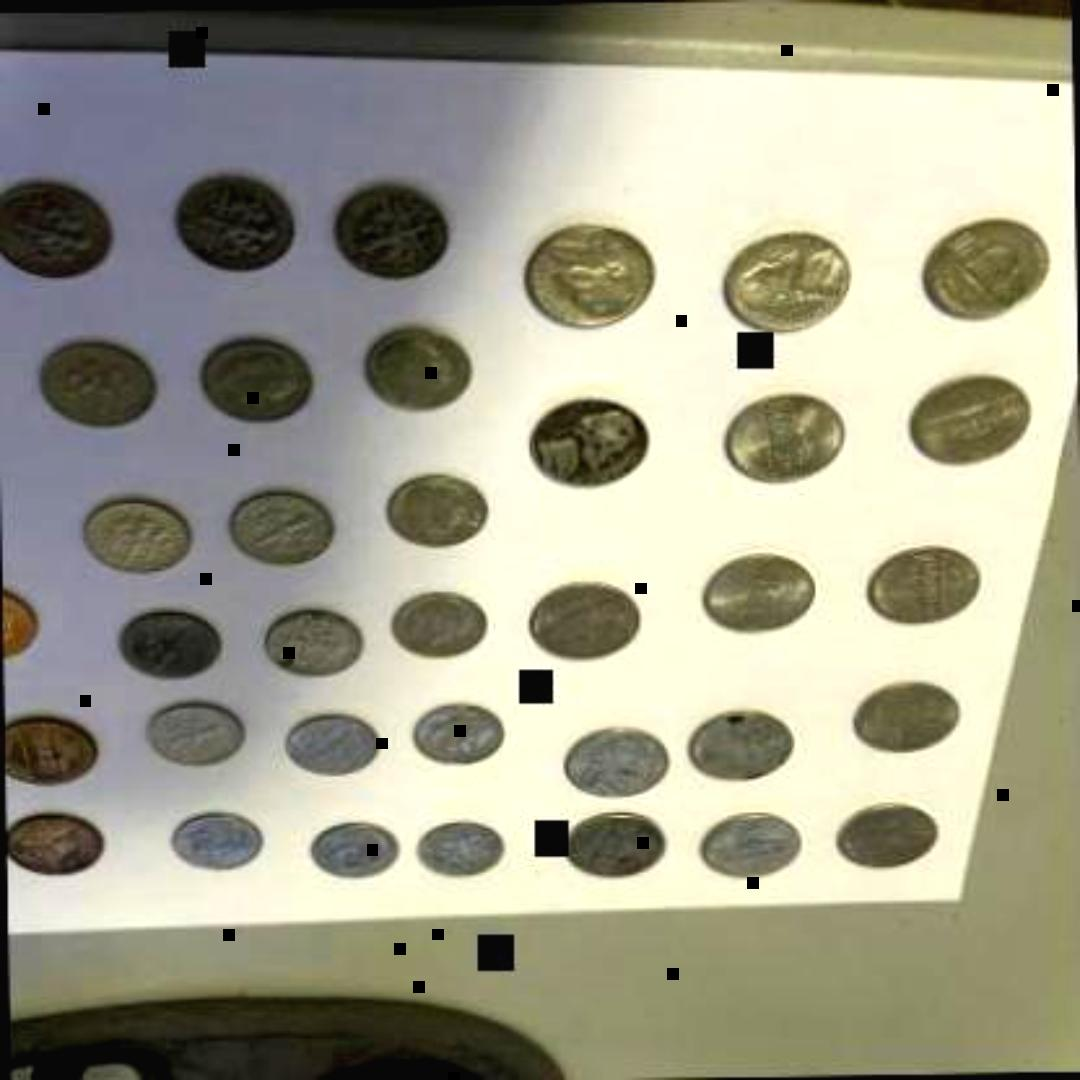Dime: (172, 168, 304, 278), (330, 176, 456, 276), (72, 489, 204, 579), (0, 172, 116, 274), (358, 317, 480, 413), (34, 335, 160, 425), (203, 328, 325, 418), (231, 476, 342, 562), (379, 468, 495, 548), (258, 602, 368, 676), (146, 691, 248, 769), (390, 582, 492, 658), (119, 604, 222, 678), (408, 690, 506, 764), (280, 705, 390, 769), (172, 801, 270, 865), (308, 813, 400, 877), (414, 816, 512, 874)
Nickel: (513, 213, 655, 329), (714, 227, 860, 338), (913, 215, 1055, 326), (714, 388, 856, 488), (906, 361, 1034, 467), (695, 540, 822, 642), (522, 567, 648, 663), (529, 393, 651, 489), (863, 535, 985, 625), (849, 669, 965, 757), (831, 788, 953, 871), (680, 704, 802, 784), (695, 802, 809, 878), (560, 805, 668, 880), (566, 720, 674, 794)
Penny: (3, 706, 101, 786), (5, 805, 111, 877), (1, 568, 52, 661)
